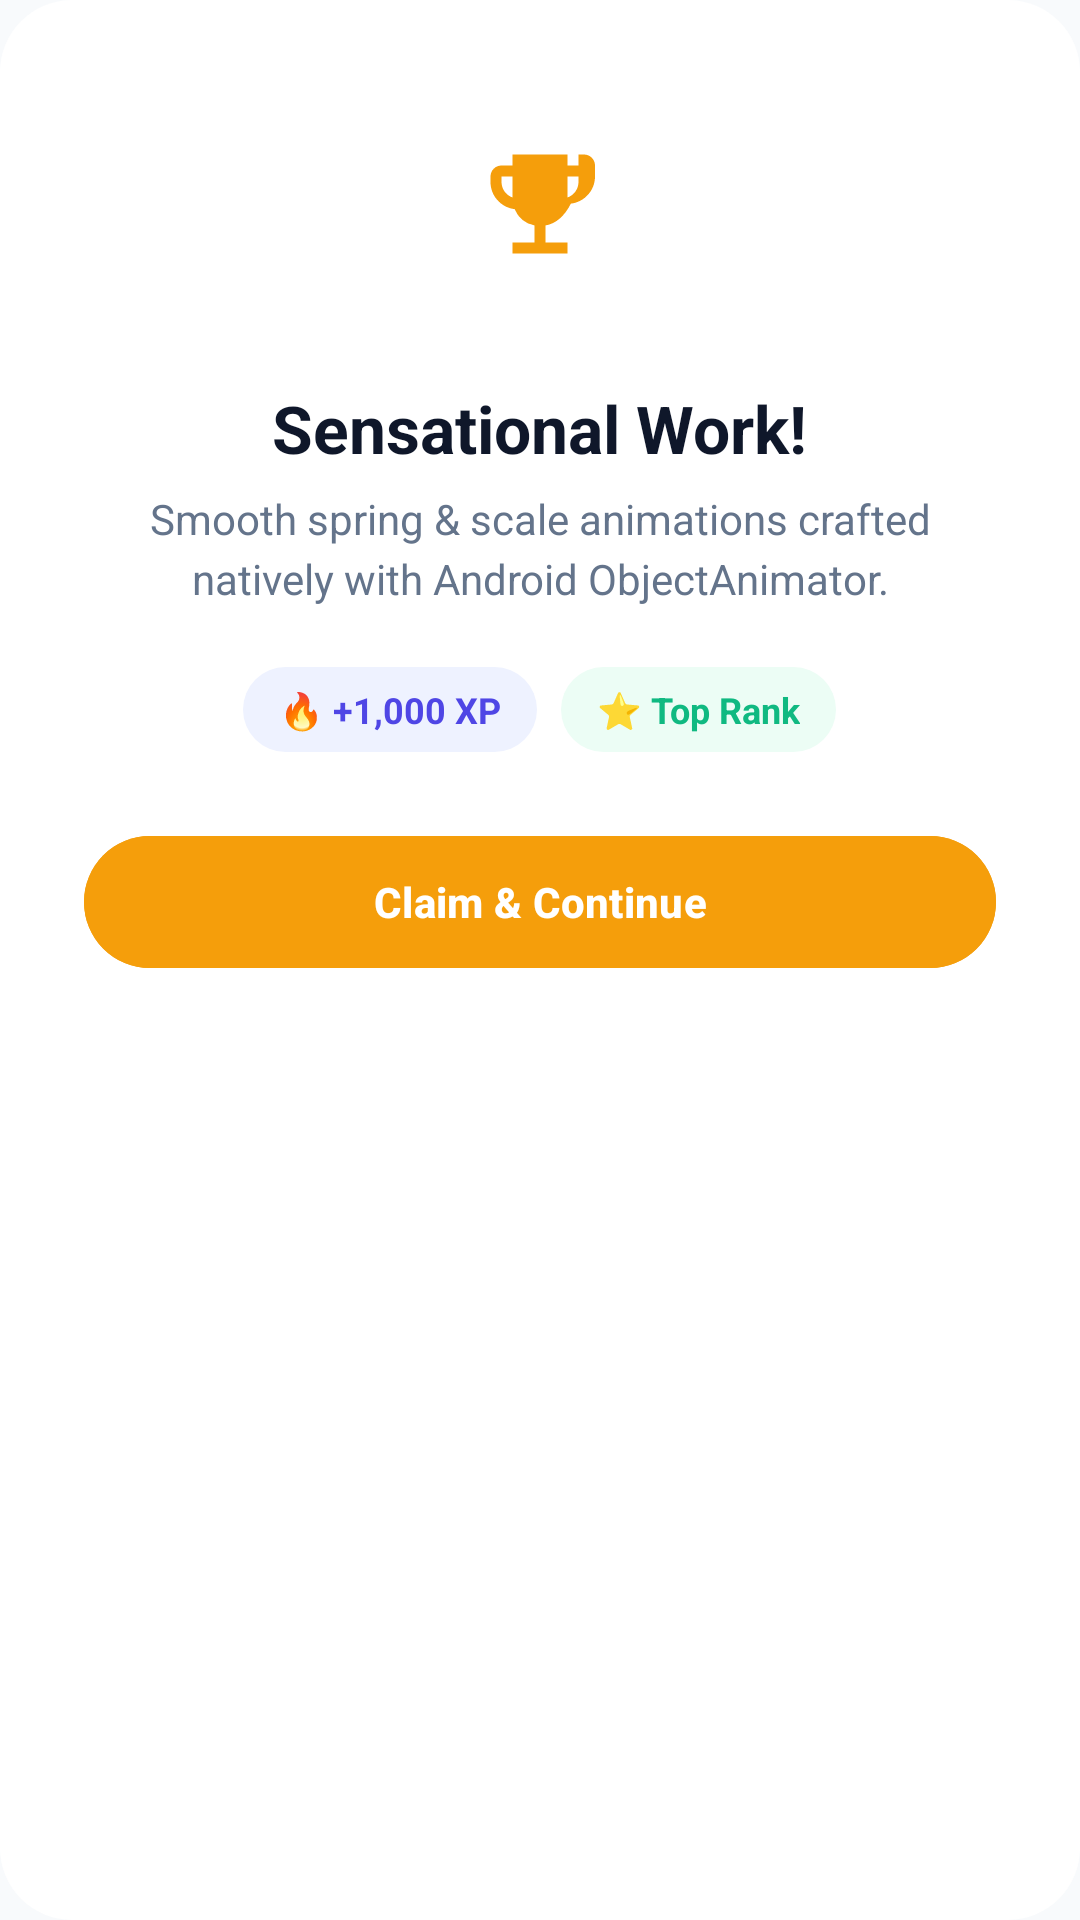

Screen size 1080*1920. Icon name, then its box in pixels as (x1, y1, x2, y2):
Trophy: (490, 154, 595, 254)
